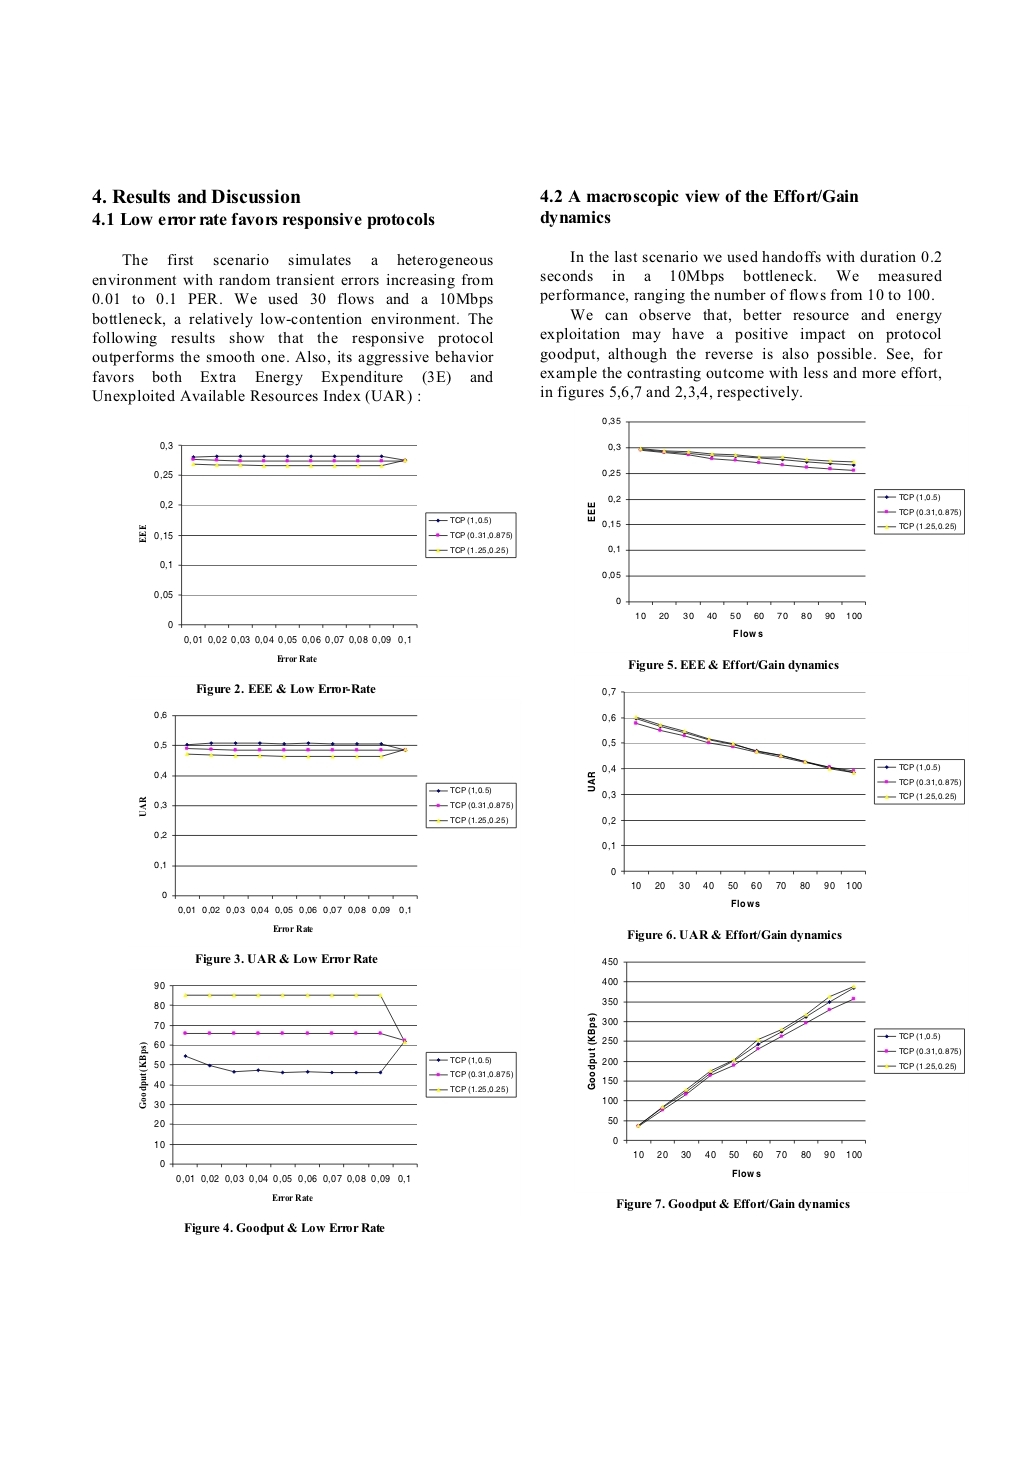figure: (139, 711, 515, 933), (587, 417, 964, 637), (139, 442, 515, 661), (139, 982, 515, 1201), (587, 688, 964, 907), (587, 958, 964, 1177)
